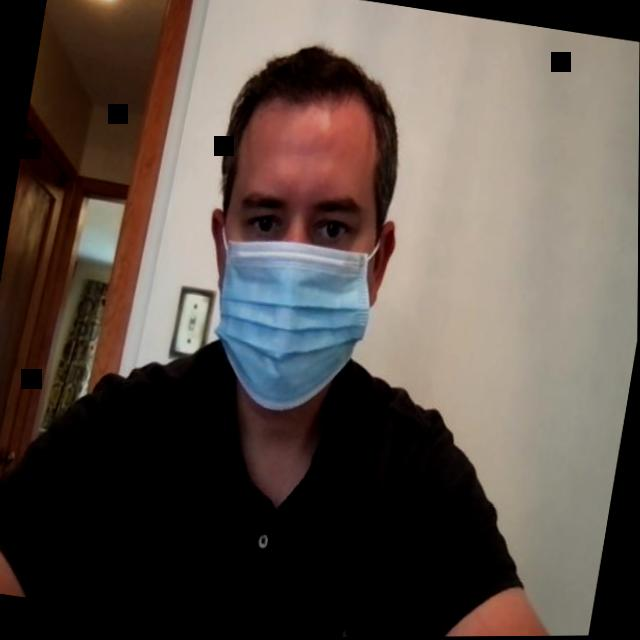Mask: (183, 38, 427, 428)
